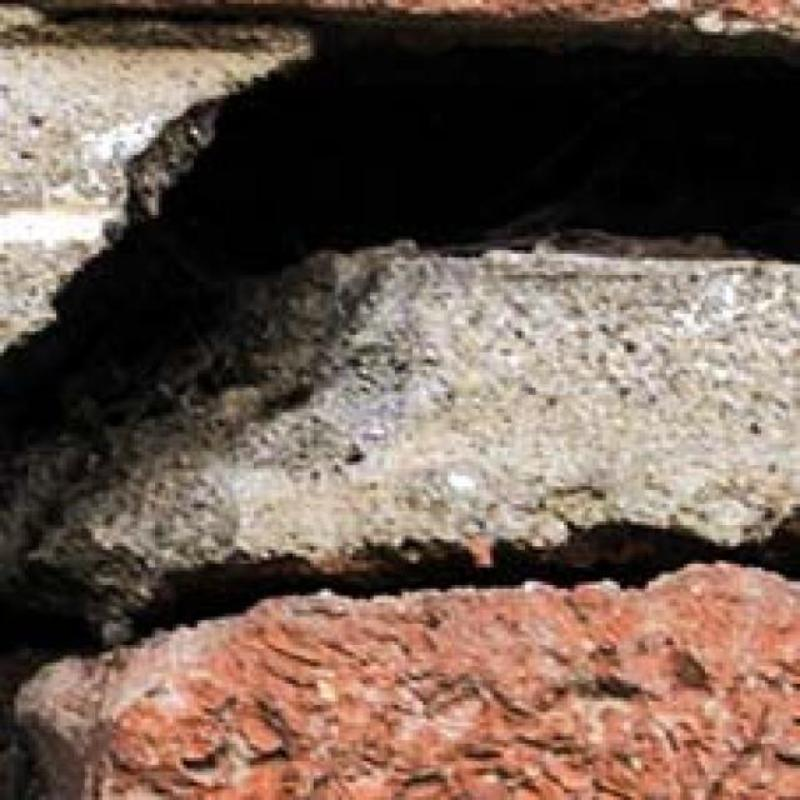crack: (0, 23, 800, 799)
